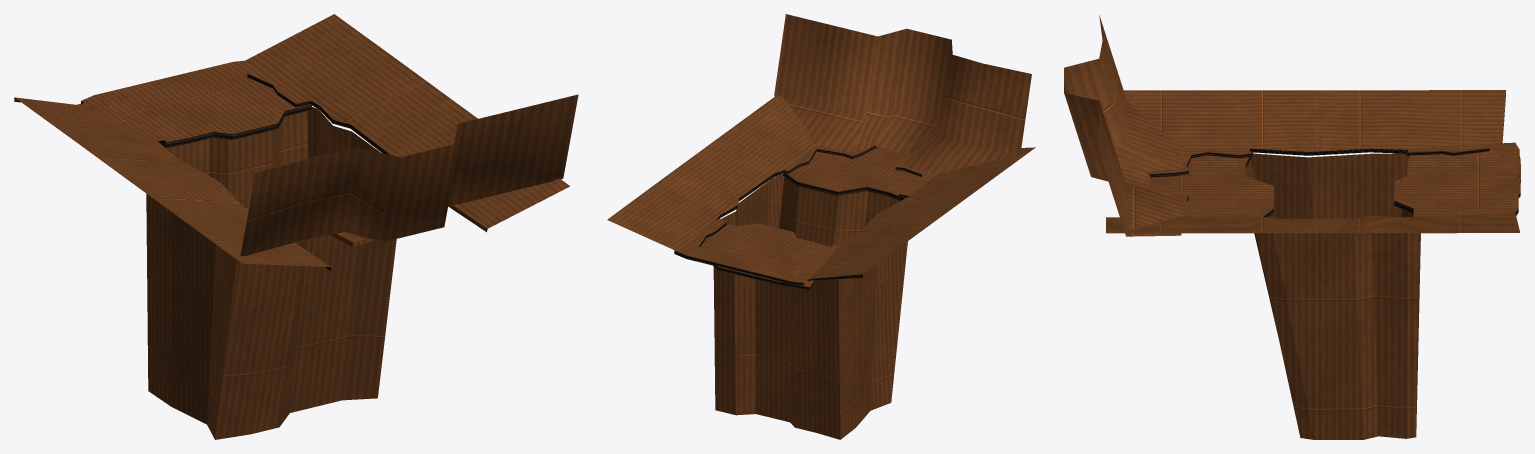
File: Level_Forest.fbx
3 views of the same model, side by side, from view 1: azimuth 30°, elevation 25°; view 2: azimuth 150°, elevation 25°; view 3: azimuth 270°, elevation 25° (orthographic). The views are drawn at different scales.
Parts seen in each view (by area): view 1: Floor, Floor.002, Floor.003; view 2: Floor, Floor.003, Floor.002; view 3: Floor, Floor.002, Floor.003.
Boxes of the visible parts, <box> form: Floor: <box>77,74,396,439</box>; Floor.002: <box>14,14,569,270</box>; Floor.003: <box>240,94,578,255</box>; Floor: <box>700,147,921,439</box>; Floor.003: <box>774,14,1031,174</box>; Floor.002: <box>607,94,1035,285</box>; Floor: <box>1150,142,1520,439</box>; Floor.002: <box>1106,90,1519,233</box>; Floor.003: <box>1064,15,1183,236</box>.
Bounding box in the file's own units: 1872 × 1972 × 2532.
